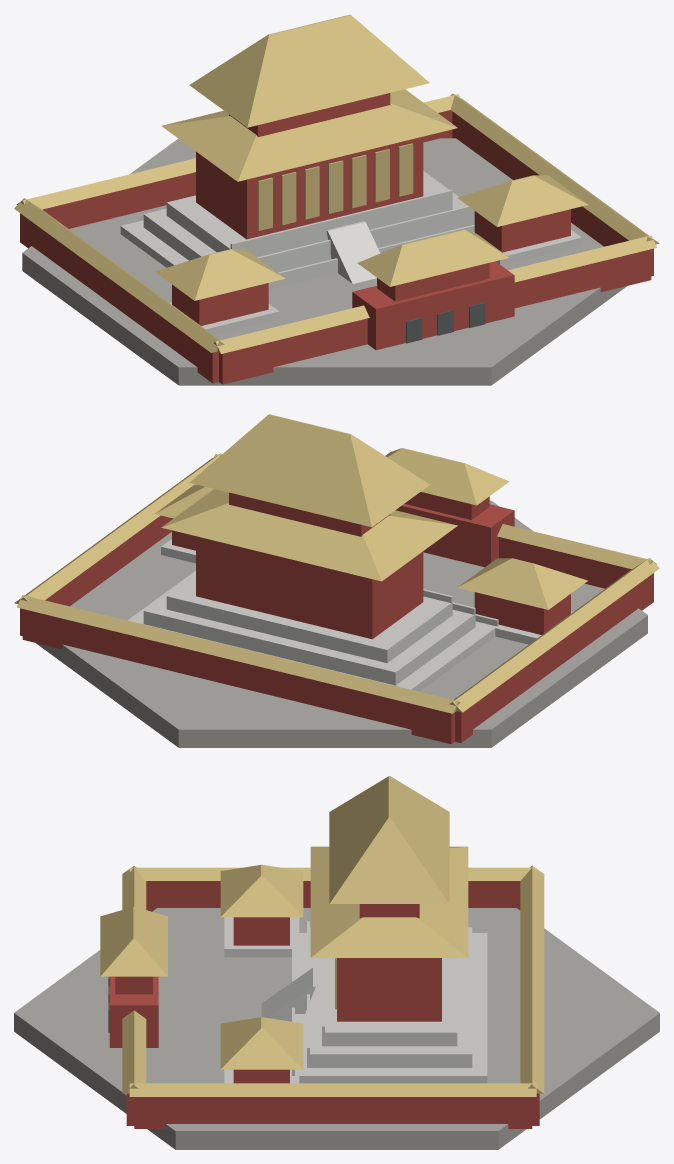
The model's file is forbidden-palace.glb.
3 views of the same model, one above another, from view 1: azimuth 30°, elevation 25°; view 2: azimuth 150°, elevation 25°; view 3: azimuth 270°, elevation 25° (orthographic). The views are drawn at different scales.
Parts seen in each view (by area): view 1: LOD0; view 2: LOD0; view 3: LOD0.
Boxes of the visible parts, x1,y1,x2,y2 form: LOD0: (14, 14, 659, 385); LOD0: (14, 414, 659, 747); LOD0: (14, 776, 659, 1149).
Size of what is drawn, in the model's own units: 1.49 by 0.69 by 1.72.
